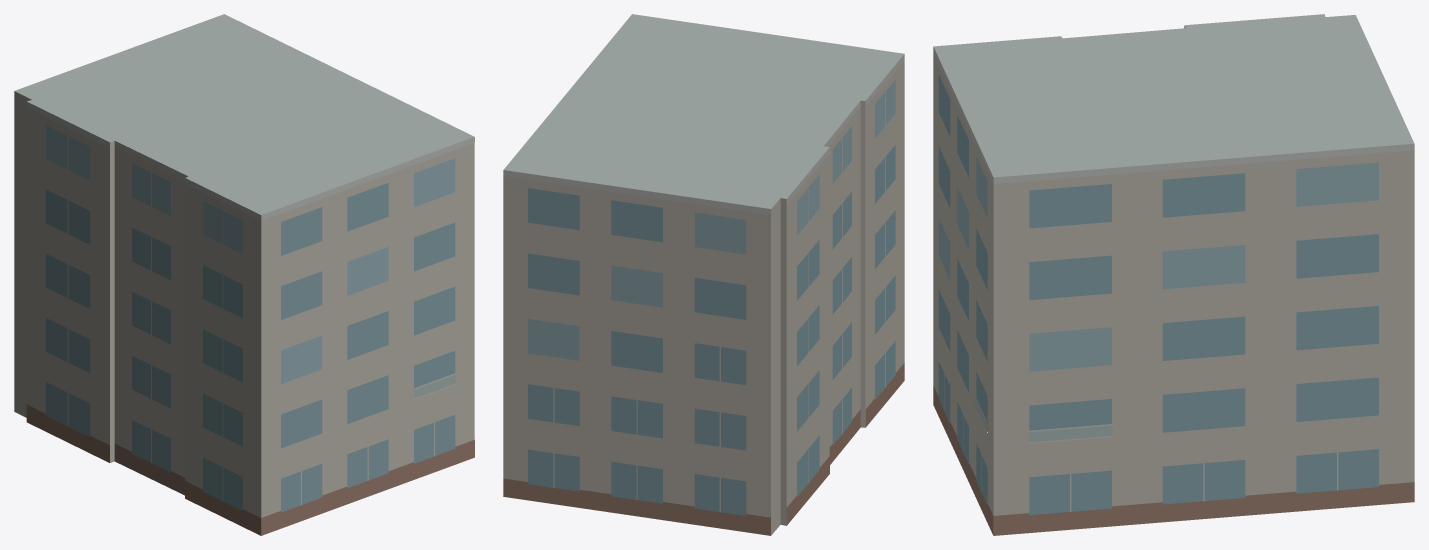
File: survey-upis-32882747.glb
3 renders of one model, left to right at view 1: azimuth 30°, elevation 25°; view 2: azimuth 150°, elevation 25°; view 3: azimuth 270°, elevation 25°, orthographic. The views are drawn at different scales.
Parts seen in each view (by area): view 1: survey-upis-32882747.tmp; view 2: survey-upis-32882747.tmp; view 3: survey-upis-32882747.tmp.
Boxes of the visible parts, x1=… form: survey-upis-32882747.tmp: x1=14, y1=14, x2=474, y2=535; survey-upis-32882747.tmp: x1=503, y1=14, x2=904, y2=535; survey-upis-32882747.tmp: x1=933, y1=14, x2=1414, y2=535.
Size of the model in its own units: 13.02 by 13.3 by 16.19.
